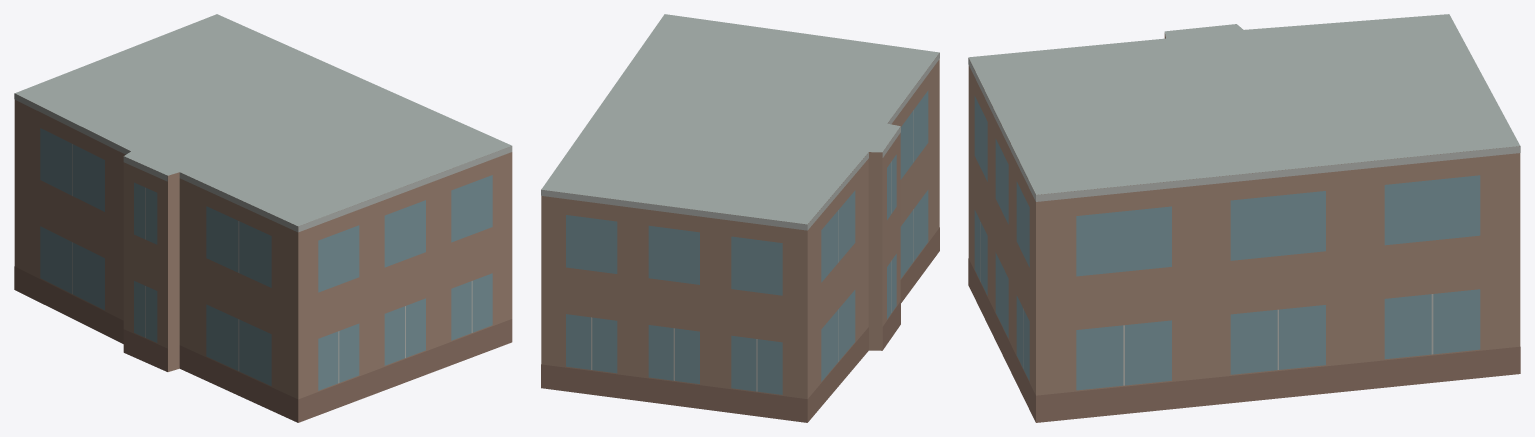
The model's file is survey-upis-32624108.glb.
3 views of the same model, side by side, from view 1: azimuth 30°, elevation 25°; view 2: azimuth 150°, elevation 25°; view 3: azimuth 270°, elevation 25° (orthographic). The views are drawn at different scales.
Visible parts, largest first — view 1: survey-upis-32624108.tmp; view 2: survey-upis-32624108.tmp; view 3: survey-upis-32624108.tmp.
Boxes of the visible parts, box(x1,y1,x2,y2) form: survey-upis-32624108.tmp: box(14, 14, 512, 422); survey-upis-32624108.tmp: box(541, 14, 939, 422); survey-upis-32624108.tmp: box(968, 14, 1520, 422).
Bounding box in the file's own units: 13.46 × 7.9 × 17.35.
